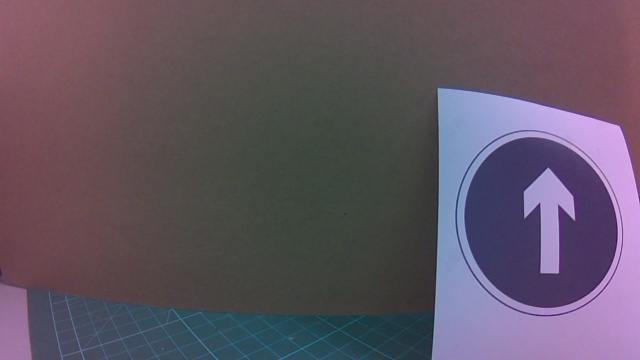forward: (459, 117, 625, 323)
